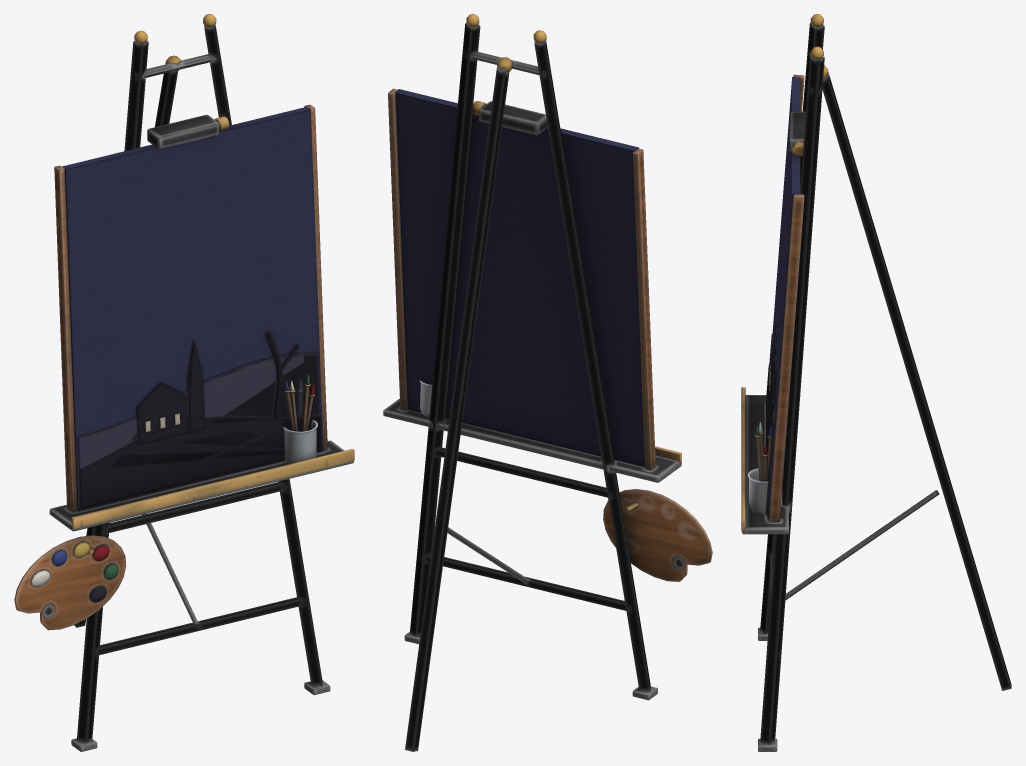
File: ArtEasel.fbx
The picture shows the model from 3 angles, left to right: view 1: azimuth 30°, elevation 25°; view 2: azimuth 150°, elevation 25°; view 3: azimuth 270°, elevation 25°; orthographic projection. The views are drawn at different scales.
Visible parts, largest first — view 1: ArtEasel_Main, ArtEasel_Glass; view 2: ArtEasel_Main; view 3: ArtEasel_Main, ArtEasel_Glass.
Boxes of the visible parts, <box> form: ArtEasel_Main: <box>14,14,354,751</box>; ArtEasel_Glass: <box>283,420,317,463</box>; ArtEasel_Main: <box>383,14,712,751</box>; ArtEasel_Main: <box>741,14,1011,751</box>; ArtEasel_Glass: <box>747,468,782,514</box>.
Size of the model in its own units: 266 by 528 by 195.
